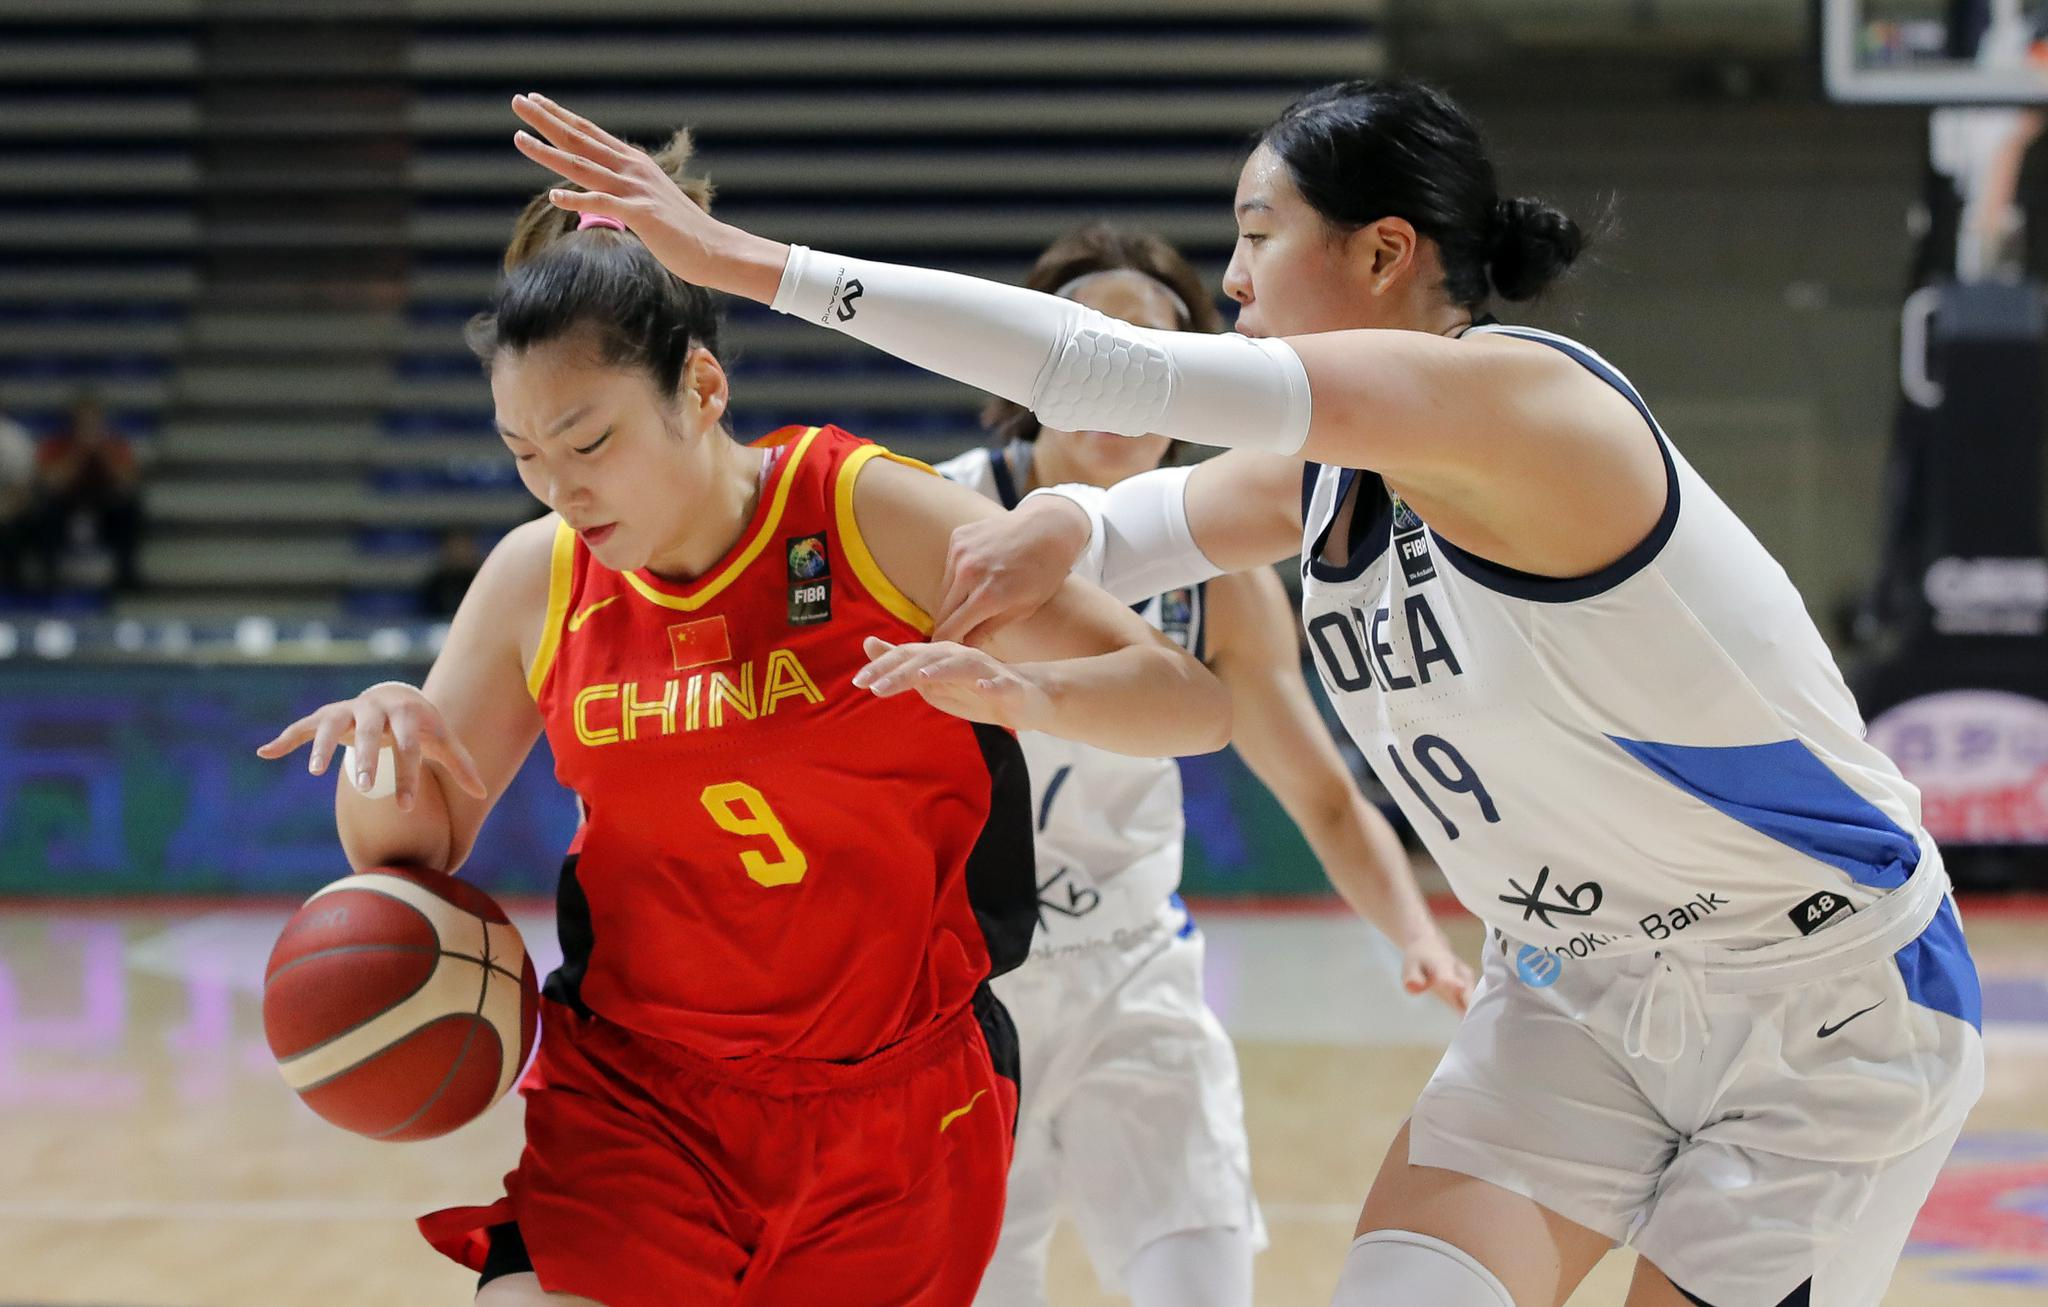ball: (263, 864, 540, 1144)
